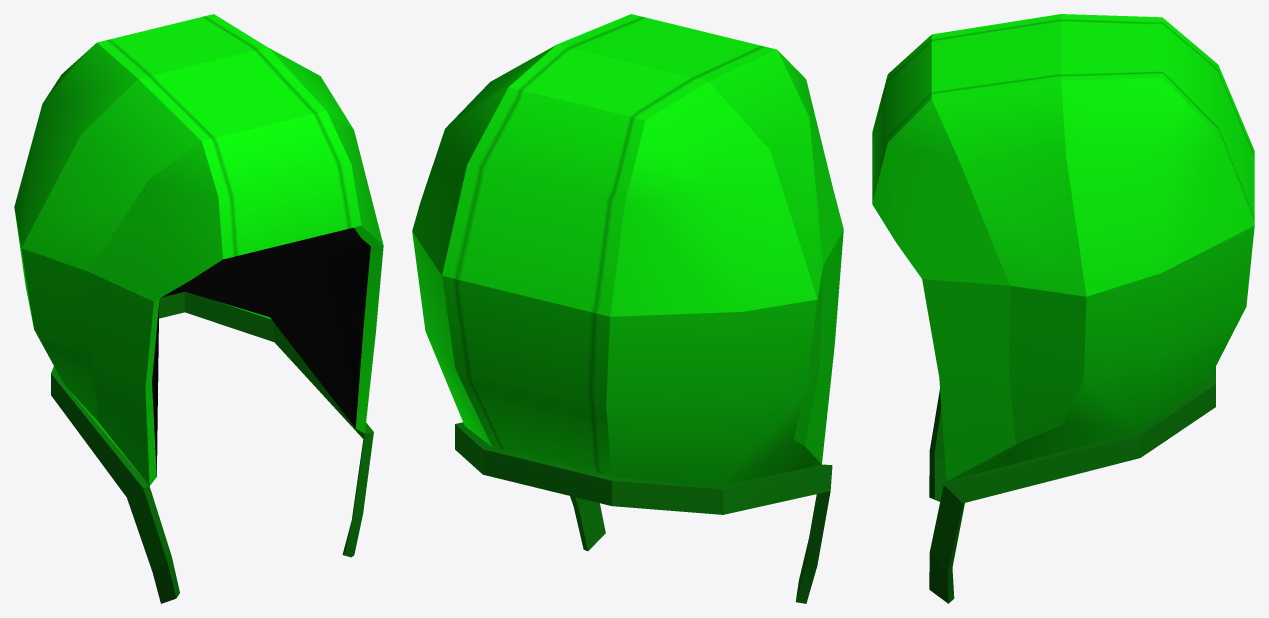
Rendered from LeatherCoif_M.fbx.
3 views of the same model, side by side, from view 1: azimuth 30°, elevation 25°; view 2: azimuth 150°, elevation 25°; view 3: azimuth 270°, elevation 25° (orthographic). The views are drawn at different scales.
Parts seen in each view (by area): view 1: LeatherCoif_M; view 2: LeatherCoif_M; view 3: LeatherCoif_M.
Boxes of the visible parts, x1,y1,x2,y2 form: LeatherCoif_M: (14, 14, 383, 603); LeatherCoif_M: (412, 14, 843, 603); LeatherCoif_M: (872, 14, 1254, 603).
Size of the model in its own units: 27.5 by 37.01 by 25.3.
